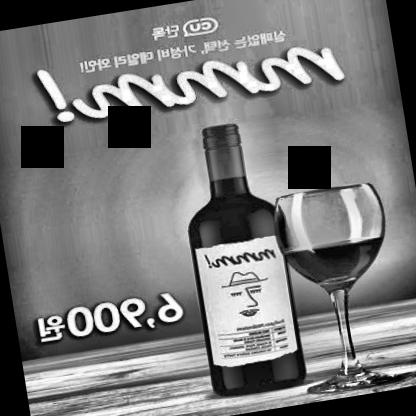umm: (192, 232, 296, 370)
